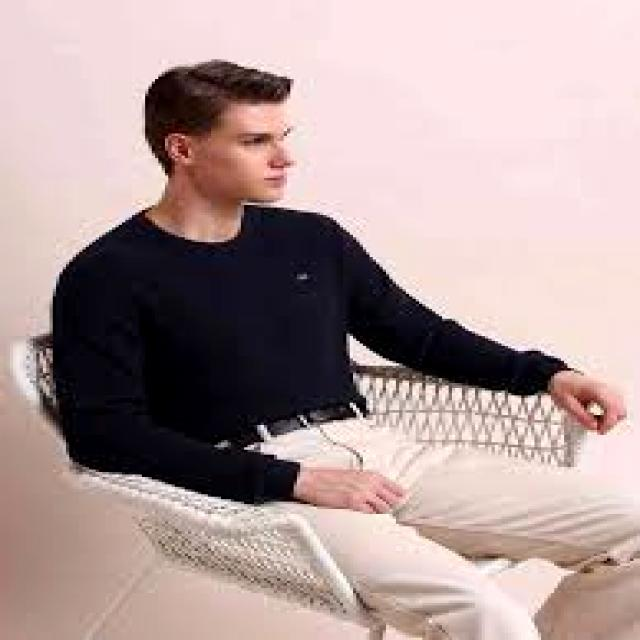face: (165, 102, 293, 202)
lower-wear: (248, 416, 639, 639)
top-wear: (53, 206, 567, 504)
